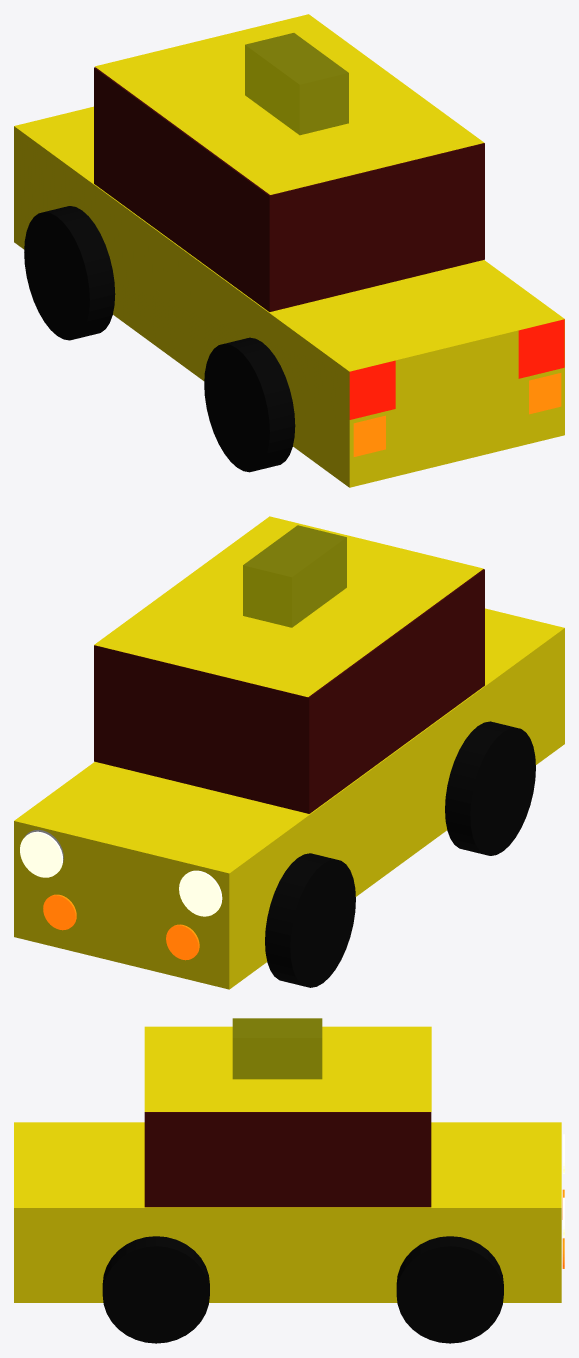
File: taxi.fbx
3 renders of one model, top to bottom at view 1: azimuth 30°, elevation 25°; view 2: azimuth 150°, elevation 25°; view 3: azimuth 270°, elevation 25°, orthographic. The views are drawn at different scales.
Visible parts, largest first — view 1: Cube.009, Cube.010, Plane.037, Circle.053, Circle.055, Cube.011, Plane.025, Plane.018, Plane.035, Plane.036; view 2: Cube.009, Cube.010, Plane.037, Circle.053, Circle.055, Cube.011, Circle.056, Circle.048, Circle.050, Circle.049; view 3: Cube.009, Cube.010, Plane.037, Circle.052, Circle.054, Cube.011.
Boxes of the visible parts, left/top/right/bottom form: Cube.009: left=14, top=106, right=564, bottom=487; Cube.010: left=94, top=67, right=484, bottom=311; Plane.037: left=95, top=14, right=484, bottom=194; Circle.053: left=24, top=206, right=115, bottom=340; Circle.055: left=204, top=337, right=295, bottom=472; Cube.011: left=245, top=33, right=348, bottom=135; Plane.025: left=518, top=319, right=564, bottom=378; Plane.018: left=349, top=360, right=395, bottom=419; Plane.035: left=529, top=373, right=561, bottom=414; Plane.036: left=353, top=415, right=385, bottom=456; Cube.009: left=14, top=608, right=564, bottom=989; Cube.010: left=94, top=569, right=484, bottom=813; Plane.037: left=94, top=516, right=483, bottom=696; Circle.053: left=265, top=853, right=355, bottom=987; Circle.055: left=445, top=721, right=535, bottom=855; Cube.011: left=243, top=525, right=346, bottom=627; Circle.056: left=179, top=870, right=222, bottom=916; Circle.048: left=20, top=831, right=62, bottom=877; Circle.050: left=43, top=894, right=76, bottom=930; Circle.049: left=166, top=924, right=199, bottom=960; Cube.009: left=14, top=1122, right=561, bottom=1302; Cube.010: left=144, top=1112, right=431, bottom=1207; Plane.037: left=144, top=1026, right=431, bottom=1111; Circle.052: left=396, top=1236, right=503, bottom=1343; Circle.054: left=102, top=1236, right=209, bottom=1343; Cube.011: left=232, top=1018, right=322, bottom=1079.
Size of the model in its own units: 247 by 285 by 543.
